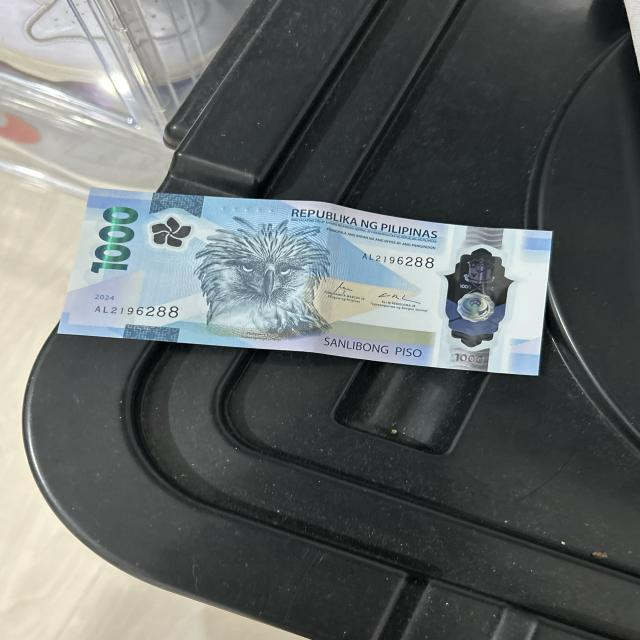clear_window: (442, 240, 507, 348)
eagle: (197, 223, 323, 340)
sampaguita: (144, 216, 193, 251)
serial_number: (348, 244, 437, 278), (85, 296, 188, 325)
